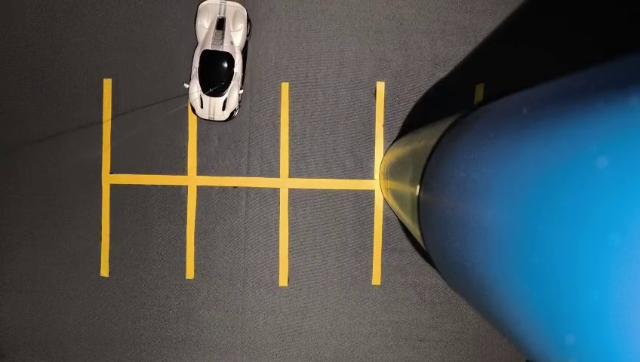toy_car: (173, 0, 273, 137)
